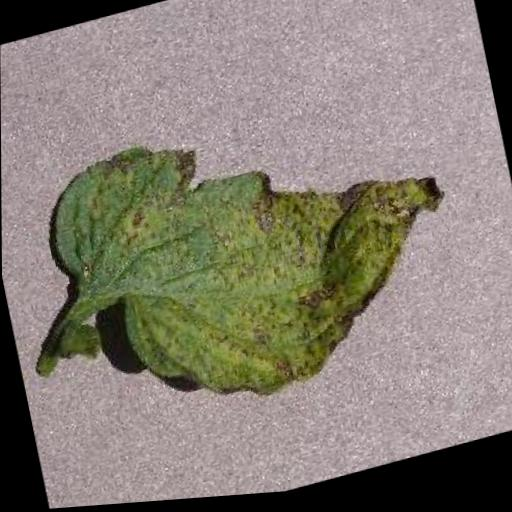Septoria: (39, 77, 471, 441)
